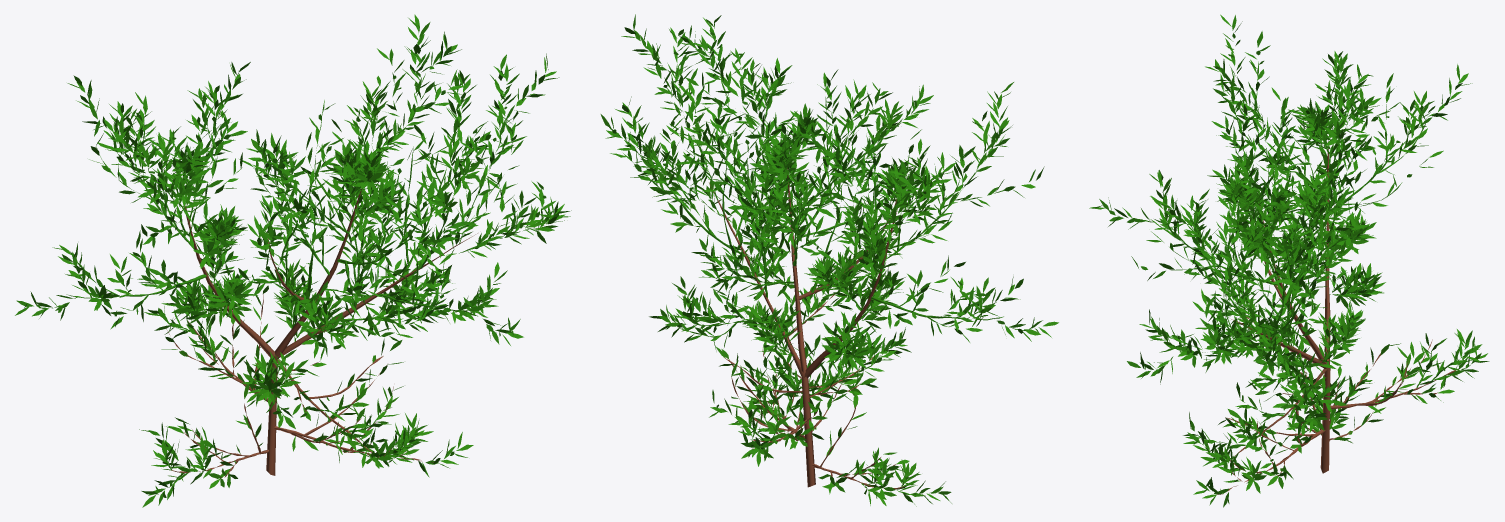
The model's file is Bush.fbx.
The picture shows the model from 3 angles, left to right: view 1: azimuth 30°, elevation 25°; view 2: azimuth 150°, elevation 25°; view 3: azimuth 270°, elevation 25°; orthographic projection. The views are drawn at different scales.
Parts seen in each view (by area): view 1: Oldvillage0003_0001:villagemaya_2:Bush1:Mesh_Untitled.015; view 2: Oldvillage0003_0001:villagemaya_2:Bush1:Mesh_Untitled.015; view 3: Oldvillage0003_0001:villagemaya_2:Bush1:Mesh_Untitled.015.
Boxes of the visible parts, left/top/right/bottom form: Oldvillage0003_0001:villagemaya_2:Bush1:Mesh_Untitled.015: left=15, top=14, right=571, bottom=507; Oldvillage0003_0001:villagemaya_2:Bush1:Mesh_Untitled.015: left=600, top=14, right=1058, bottom=506; Oldvillage0003_0001:villagemaya_2:Bush1:Mesh_Untitled.015: left=1089, top=14, right=1489, bottom=507.
Bounding box in the file's own units: 74.78 × 64.47 × 56.62.
